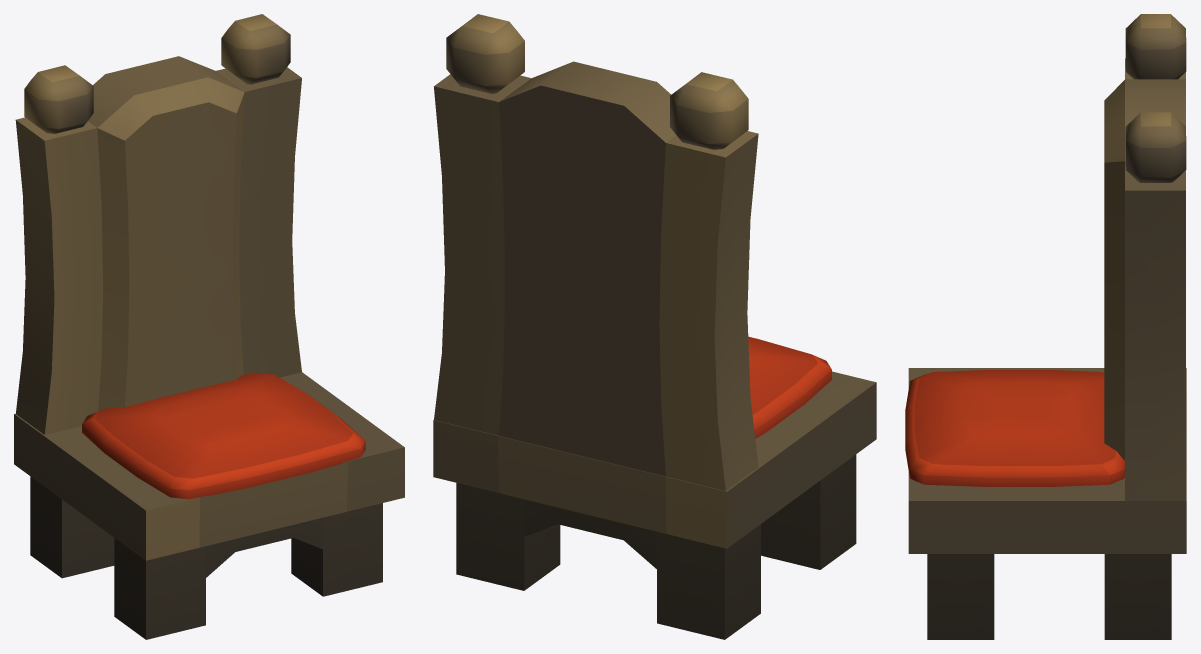
File: chair_cushion.fbx
3 views of the same model, side by side, from view 1: azimuth 30°, elevation 25°; view 2: azimuth 150°, elevation 25°; view 3: azimuth 270°, elevation 25° (orthographic). The views are drawn at different scales.
Parts seen in each view (by area): view 1: chair_cushion; view 2: chair_cushion; view 3: chair_cushion.
Boxes of the visible parts, x1,y1,x2,y2 form: chair_cushion: (14, 14, 404, 639); chair_cushion: (433, 14, 876, 639); chair_cushion: (905, 14, 1186, 639).
Size of the model in its own units: 70 by 125 by 62.47.
